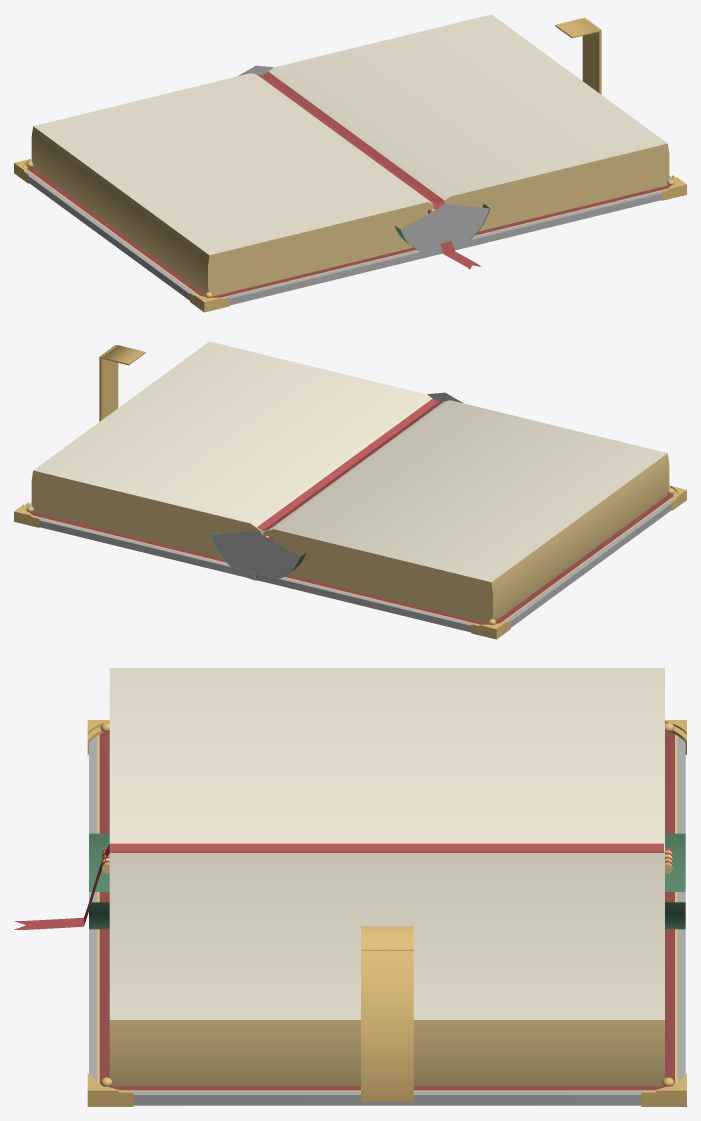
File: book-open.glb
3 views of the same model, one above another, from view 1: azimuth 30°, elevation 25°; view 2: azimuth 150°, elevation 25°; view 3: azimuth 270°, elevation 25° (orthographic). The views are drawn at different scales.
Visible parts, largest first — view 1: left_body, right_body, strap_mesh, spine_left_caps, spine_right_caps; view 2: left_body, right_body, strap_mesh, spine_left_caps, spine_right_caps, spine_mid_caps; view 3: right_body, left_body, strap_mesh, spine_right, spine_left.
Boxes of the visible parts, x1,y1,x2,y2 form: left_body: (14, 73, 443, 312); right_body: (257, 14, 686, 269); strap_mesh: (555, 17, 601, 94); spine_left_caps: (256, 65, 489, 243); spine_right_caps: (238, 66, 444, 251); left_body: (256, 400, 686, 639); right_body: (14, 341, 444, 579); strap_mesh: (99, 344, 145, 421); spine_left_caps: (211, 392, 444, 579); spine_right_caps: (256, 393, 462, 578); spine_mid_caps: (243, 393, 445, 579); right_body: (14, 843, 686, 1106); left_body: (87, 668, 686, 902); strap_mesh: (361, 926, 413, 1101); spine_right: (89, 833, 685, 891); spine_left: (89, 902, 685, 929).
Size of the model in its own units: 2.11 by 0.4383 by 1.62.
